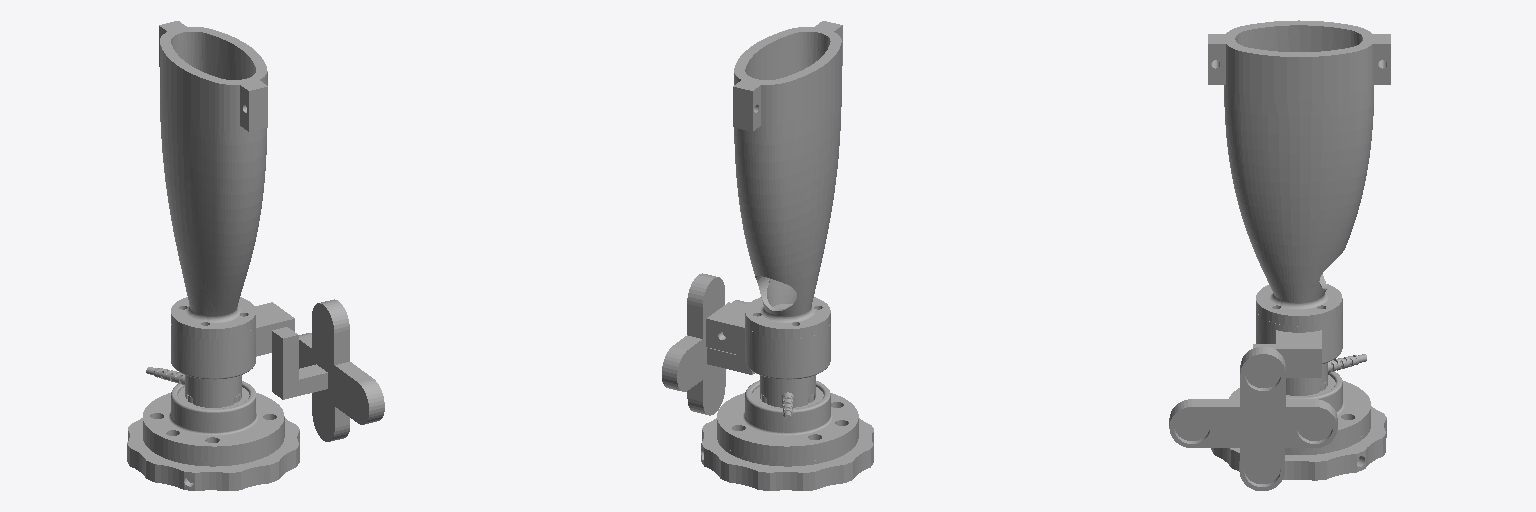
URDF robot description (LWR_US):
<?xml version="1.0" encoding="utf-8"?>
<!-- =================================================================================== -->
<!-- |    This document was autogenerated by xacro from use_case_setup_lwr.urdf.xacro  | -->
<!-- |    EDITING THIS FILE BY HAND IS NOT RECOMMENDED                                 | -->
<!-- =================================================================================== -->
<robot name="LWR_US" xmlns:controller="http://playerstage.sourceforge.net/gazebo/xmlschema/#controller" xmlns:interface="http://playerstage.sourceforge.net/gazebo/xmlschema/#interface" xmlns:sensor="http://playerstage.sourceforge.net/gazebo/xmlschema/#sensor">
  <material name="DarkGrey">
    <color rgba="0.3 0.3 0.3 1.0"/>
  </material>
  <material name="Black">
    <color rgba="0 0 0 1.0"/>
  </material>
  <material name="Orange">
    <color rgba="1.0 0.487 0 1.0"/>
  </material>
  <material name="Silver">
    <color rgba="1.0 1.0 1.0 1.0"/>
  </material>
  <material name="Grey">
    <color rgba="0.7 0.7 0.7 1.0"/>
  </material>
  <material name="Blue">
    <color rgba="0.0 0.0 0.8 1.0"/>
  </material>
  <material name="HandGray">
    <color rgba="0.953 0.996 0.694 1.0"/>
  </material>
  <material name="SickBlue">
    <color rgba="0.3058 0.5921 0.7294 1.0"/>
  </material>
  <material name="Wheat">
    <color rgba="0.8039 0.5215 0.2470 1.0"/>
  </material>
  <link name="world"/>
  <joint name="world_lwr_arm_base_joint" type="fixed">
    <origin rpy="0 0 0" xyz="0 0 0"/>
    <parent link="world"/>
    <child link="calib_lwr_arm_base_link"/>
  </joint>
  <link name="calib_lwr_arm_base_link">
    <inertial>
      <mass value="2.0"/>
      <origin rpy="0 0 0" xyz="0 0 0.055"/>
      <inertia ixx="0.00381666666667" ixy="0" ixz="0" iyy="0.0036" iyz="0" izz="0.00381666666667"/>
    </inertial>
    <visual>
      <origin rpy="0 0 0" xyz="0 0 0"/>
      <geometry>
        <mesh filename="package://kuka_lwr_description/meshes/arm/arm_base.stl"/>
      </geometry>
      <material name="Orange"/>
    </visual>
    <collision>
      <origin rpy="0 0 0" xyz="0 0 0"/>
      <geometry>
        <mesh filename="package://kuka_lwr_description/meshes/arm/convex/arm_base_convex.stl"/>
      </geometry>
    </collision>
  </link>
  <gazebo reference="calib_lwr_arm_base_link">
    <material value="kuka-lwr.material"/>
  </gazebo>
  <joint name="lwr_arm_joint_0" type="revolute">
    <origin rpy="0 0 0" xyz="0 0 0.11"/>
    <axis xyz="0 0 1"/>
    <limit effort="204" lower="-2.96705972839" upper="2.96705972839" velocity="1.91986217719"/>
    <safety_controller k_position="100" k_velocity="2" soft_lower_limit="-2.93215314335" soft_upper_limit="2.93215314335"/>
    <dynamics damping="0.1"/>
    <parent link="calib_lwr_arm_base_link"/>
    <child link="lwr_arm_link_1"/>
  </joint>
  <link name="lwr_arm_link_1">
    <inertial>
      <mass value="2.0"/>
      <origin rpy="0 0 0" xyz="0 0 0.130"/>
      <inertia ixx="0.0136666666667" ixy="0" ixz="0" iyy="0.003" iyz="0" izz="0.0118666666667"/>
    </inertial>
    <visual>
      <origin rpy="0 0 3.14159265359" xyz="0 0 0"/>
      <geometry>
        <mesh filename="package://kuka_lwr_description/meshes/arm/arm_segment_a.stl"/>
      </geometry>
      <material name="Orange"/>
    </visual>
    <collision>
      <origin rpy="0 0 3.14159265359" xyz="0 0 0"/>
      <geometry>
        <mesh filename="package://kuka_lwr_description/meshes/arm/convex/arm_segment_a_convex.stl"/>
      </geometry>
    </collision>
  </link>
  <gazebo reference="lwr_arm_link_1">
    <material value="kuka-lwr.material"/>
  </gazebo>
  <transmission name="lwr_arm_trans_0" type="pr2_mechanism_model/SimpleTransmission">
    <actuator name="lwr_arm_motor_0"/>
    <joint name="lwr_arm_joint_0"/>
    <mechanicalReduction>1.0</mechanicalReduction>
  </transmission>
  <joint name="lwr_arm_joint_1" type="revolute">
    <origin rpy="0 0 0" xyz="0 0 0.20"/>
    <axis xyz="0 -1 0"/>
    <limit effort="306" lower="-2.09439510239" upper="2.09439510239" velocity="1.91986217719"/>
    <safety_controller k_position="100" k_velocity="2" soft_lower_limit="-2.05948851735" soft_upper_limit="2.05948851735"/>
    <dynamics damping="0.1"/>
    <parent link="lwr_arm_link_1"/>
    <child link="lwr_arm_link_2"/>
  </joint>
  <link name="lwr_arm_link_2">
    <inertial>
      <mass value="2.0"/>
      <origin rpy="0 0 0" xyz="0 0.06 0.07"/>
      <inertia ixx="0.0136666666667" ixy="0" ixz="0" iyy="0.003" iyz="0" izz="0.0118666666667"/>
    </inertial>
    <visual>
      <origin rpy="3.14159265359 0 3.14159265359" xyz="0 0 0.2"/>
      <geometry>
        <mesh filename="package://kuka_lwr_description/meshes/arm/arm_segment_b.stl"/>
      </geometry>
      <material name="Orange"/>
    </visual>
    <collision>
      <origin rpy="3.14159265359 0 3.14159265359" xyz="0 0 0.2"/>
      <geometry>
        <mesh filename="package://kuka_lwr_description/meshes/arm/convex/arm_segment_b_convex.stl"/>
      </geometry>
    </collision>
  </link>
  <gazebo reference="lwr_arm_link_2">
    <material value="kuka-lwr.material"/>
  </gazebo>
  <transmission name="lwr_arm_trans_1" type="pr2_mechanism_model/SimpleTransmission">
    <actuator name="lwr_arm_motor_1"/>
    <joint name="lwr_arm_joint_1"/>
    <mechanicalReduction>1.0</mechanicalReduction>
  </transmission>
  <joint name="lwr_arm_joint_2" type="revolute">
    <origin rpy="0 0 0" xyz="0 0 0.20"/>
    <axis xyz="0 0 1"/>
    <limit effort="204" lower="-2.96705972839" upper="2.96705972839" velocity="2.26892802759"/>
    <safety_controller k_position="100" k_velocity="2" soft_lower_limit="-2.93215314335" soft_upper_limit="2.93215314335"/>
    <dynamics damping="0.1"/>
    <parent link="lwr_arm_link_2"/>
    <child link="lwr_arm_link_3"/>
  </joint>
  <link name="lwr_arm_link_3">
    <inertial>
      <mass value="2.0"/>
      <origin rpy="0 0 0" xyz="0 0.06 0.130"/>
      <inertia ixx="0.0136666666667" ixy="0" ixz="0" iyy="0.003" iyz="0" izz="0.0118666666667"/>
    </inertial>
    <visual>
      <origin rpy="0 0 0" xyz="0 0 0"/>
      <geometry>
        <mesh filename="package://kuka_lwr_description/meshes/arm/arm_segment_a.stl"/>
      </geometry>
      <material name="Orange"/>
    </visual>
    <collision>
      <origin rpy="0 0 0" xyz="0 0 0"/>
      <geometry>
        <mesh filename="package://kuka_lwr_description/meshes/arm/convex/arm_segment_a_convex.stl"/>
      </geometry>
    </collision>
  </link>
  <gazebo reference="lwr_arm_link_3">
    <material value="kuka-lwr.material"/>
  </gazebo>
  <transmission name="lwr_arm_trans_2" type="pr2_mechanism_model/SimpleTransmission">
    <actuator name="lwr_arm_motor_2"/>
    <joint name="lwr_arm_joint_2"/>
    <mechanicalReduction>1.0</mechanicalReduction>
  </transmission>
  <joint name="lwr_arm_joint_3" type="revolute">
    <origin rpy="0 0 0" xyz="0 0 0.20"/>
    <axis xyz="0 1 0"/>
    <limit effort="306" lower="-2.09439510239" upper="2.09439510239" velocity="2.26892802759"/>
    <safety_controller k_position="100" k_velocity="2" soft_lower_limit="-2.05948851735" soft_upper_limit="2.05948851735"/>
    <dynamics damping="0.1"/>
    <parent link="lwr_arm_link_3"/>
    <child link="lwr_arm_link_4"/>
  </joint>
  <link name="lwr_arm_link_4">
    <inertial>
      <mass value="2.0"/>
      <origin rpy="0 0 0" xyz="0 -0.06 0.07"/>
      <inertia ixx="0.0136666666667" ixy="0" ixz="0" iyy="0.003" iyz="0" izz="0.0118666666667"/>
    </inertial>
    <visual>
      <origin rpy="0 3.14159265359 3.14159265359" xyz="0 0 0.2"/>
      <geometry>
        <mesh filename="package://kuka_lwr_description/meshes/arm/arm_segment_b.stl"/>
      </geometry>
      <material name="Orange"/>
    </visual>
    <collision>
      <origin rpy="0 3.14159265359 3.14159265359" xyz="0 0 0.2"/>
      <geometry>
        <mesh filename="package://kuka_lwr_description/meshes/arm/convex/arm_segment_b_convex.stl"/>
      </geometry>
    </collision>
  </link>
  <gazebo reference="lwr_arm_link_4">
    <material value="kuka-lwr.material"/>
  </gazebo>
  <transmission name="lwr_arm_trans_3" type="pr2_mechanism_model/SimpleTransmission">
    <actuator name="lwr_arm_motor_3"/>
    <joint name="lwr_arm_joint_3"/>
    <mechanicalReduction>1.0</mechanicalReduction>
  </transmission>
  <joint name="lwr_arm_joint_4" type="revolute">
    <origin rpy="0 0 0" xyz="0 0 0.20"/>
    <axis xyz="0 0 1"/>
    <limit effort="204" lower="-2.96705972839" upper="2.96705972839" velocity="2.26892802759"/>
    <safety_controller k_position="100" k_velocity="2" soft_lower_limit="-2.93215314335" soft_upper_limit="2.93215314335"/>
    <dynamics damping="0.1"/>
    <parent link="lwr_arm_link_4"/>
    <child link="lwr_arm_link_5"/>
  </joint>
  <link name="lwr_arm_link_5">
    <inertial>
      <mass value="2.0"/>
      <origin rpy="0 0 0" xyz="0 0 0.124"/>
      <inertia ixx="0.0126506666667" ixy="0" ixz="0" iyy="0.003" iyz="0" izz="0.0108506666667"/>
    </inertial>
    <visual>
      <origin rpy="0 0 3.14159265359" xyz="0 0 0"/>
      <geometry name="lwr_arm_5_geom">
        <mesh filename="package://kuka_lwr_description/meshes/arm/arm_segment_last.stl"/>
      </geometry>
      <material name="Orange"/>
    </visual>
    <collision>
      <origin rpy="0 0 3.14159265359" xyz="0 0 0"/>
      <geometry>
        <mesh filename="package://kuka_lwr_description/meshes/arm/convex/arm_segment_last_convex.stl"/>
      </geometry>
    </collision>
  </link>
  <gazebo reference="lwr_arm_link_5">
    <material value="kuka-lwr.material"/>
  </gazebo>
  <transmission name="lwr_arm_trans_4" type="pr2_mechanism_model/SimpleTransmission">
    <actuator name="lwr_arm_motor_4"/>
    <joint name="lwr_arm_joint_4"/>
    <mechanicalReduction>1.0</mechanicalReduction>
  </transmission>
  <joint name="lwr_arm_joint_5" type="revolute">
    <origin rpy="0 0 0" xyz="0 0 0.19"/>
    <axis xyz="0 -1 0"/>
    <limit effort="306" lower="-2.09439510239" upper="2.09439510239" velocity="3.14159265359"/>
    <safety_controller k_position="100" k_velocity="2" soft_lower_limit="-2.05948851735" soft_upper_limit="2.05948851735"/>
    <dynamics damping="0.1"/>
    <parent link="lwr_arm_link_5"/>
    <child link="lwr_arm_link_6"/>
  </joint>
  <link name="lwr_arm_link_6">
    <inertial>
      <mass value="2.0"/>
      <origin rpy="0 0 0" xyz="0 0 0.0625"/>
      <inertia ixx="0.00520833333333" ixy="0" ixz="0" iyy="0.00520833333333" iyz="0" izz="0.00520833333333"/>
    </inertial>
    <visual>
      <origin rpy="0 0 3.14159265359" xyz="0 0 0"/>
      <geometry>
        <mesh filename="package://kuka_lwr_description/meshes/arm/arm_wrist.stl"/>
      </geometry>
      <material name="Grey"/>
    </visual>
    <collision>
      <origin rpy="0 0 3.14159265359" xyz="0 0 0"/>
      <geometry>
        <mesh filename="package://kuka_lwr_description/meshes/arm/convex/arm_wrist_convex.stl"/>
      </geometry>
    </collision>
  </link>
  <gazebo reference="lwr_arm_link_6">
    <material value="kuka-lwr.material"/>
  </gazebo>
  <transmission name="lwr_arm_trans_5" type="pr2_mechanism_model/SimpleTransmission">
    <actuator name="lwr_arm_motor_5"/>
    <joint name="lwr_arm_joint_5"/>
    <mechanicalReduction>1.0</mechanicalReduction>
  </transmission>
  <joint name="lwr_arm_joint_6" type="revolute">
    <origin rpy="0 0 0" xyz="0 0 0.078"/>
    <axis xyz="0 0 1"/>
    <limit effort="204" lower="-2.96705972839" upper="2.96705972839" velocity="3.14159265359"/>
    <safety_controller k_position="100" k_velocity="2" soft_lower_limit="-2.93215314335" soft_upper_limit="2.93215314335"/>
    <dynamics damping="0.1"/>
    <parent link="lwr_arm_link_6"/>
    <child link="lwr_arm_link_7"/>
  </joint>
  <link name="lwr_arm_link_7">
    <inertial>
      <mass value="2.0"/>
      <origin xyz="0 0 0"/>
      <inertia ixx="0.333333333333" ixy="0" ixz="0" iyy="0.333333333333" iyz="0" izz="0.333333333333"/>
    </inertial>
    <visual>
      <origin rpy="0 0 2.35619449019" xyz="0 0 0"/>
      <geometry>
        <mesh filename="package://kuka_lwr_description/meshes/arm/arm_flanche.stl"/>
      </geometry>
      <material name="Black"/>
    </visual>
    <collision>
      <origin rpy="0 0 2.35619449019" xyz="0 0 0"/>
      <geometry>
        <mesh filename="package://kuka_lwr_description/meshes/arm/convex/arm_flanche_convex.stl"/>
      </geometry>
    </collision>
  </link>
  <gazebo reference="lwr_arm_link_7">
    <material value="kuka-lwr.material"/>
  </gazebo>
  <transmission name="lwr_arm_trans_6" type="pr2_mechanism_model/SimpleTransmission">
    <actuator name="lwr_arm_motor_6"/>
    <joint name="lwr_arm_joint_6"/>
    <mechanicalReduction>1.0</mechanicalReduction>
  </transmission>
  <joint name="lwr_arm_hand_fixed_joint" type="fixed">
    <origin rpy="0 0 0" xyz="0 0 0.18"/>
    <parent link="lwr_arm_link_7"/>
    <child link="lwr_arm_hand_link"/>
  </joint>
  <link name="lwr_arm_hand_link">
    <inertial>
      <mass value="0.30"/>
      <origin xyz="0 0 0.10"/>
      <inertia ixx="0.333333333333" ixy="0" ixz="0" iyy="0.333333333333" iyz="0" izz="0.333333333333"/>
    </inertial>
    <visual>
      <origin rpy="1.57079632 0 0" xyz="-0.052 0.052 -0.2"/>
        <geometry> 
            <mesh filename="package://kuka_lwr_description/meshes/arm/convex/b_with_force_sensor.stl"/> 
        </geometry>
    <material name="Grey"/>
    </visual>
  </link>
  <gazebo reference="lwr_arm_link_7">
    <material value="kuka-lwr.material"/>
  </gazebo>
  <transmission name="lwr_arm_trans_7" type="pr2_mechanism_model/SimpleTransmission">
    <actuator name="lwr_arm_motor_6"/>
    <joint name="lwr_arm_hand_fixed_joint"/>
    <mechanicalReduction>1.0</mechanicalReduction>
  </transmission> 
</robot>

--- What the picture shows (computed from the rendered views, not written in the file) ---
Views: 3 orthographic renders of the robot side by side, from view 1: azimuth 30°, elevation 25°; view 2: azimuth 150°, elevation 25°; view 3: azimuth 270°, elevation 25°.
Robot: LWR_US — 10 links, 9 joints (7 revolute, 2 fixed); root link world; default pose: all joints at 0.
Visible links, largest first — view 1: lwr_arm_hand_link; view 2: lwr_arm_hand_link; view 3: lwr_arm_hand_link.
Link boxes in pixels (x1=…): lwr_arm_hand_link: x1=127, y1=21, x2=384, y2=490; lwr_arm_hand_link: x1=662, y1=21, x2=873, y2=490; lwr_arm_hand_link: x1=1169, y1=20, x2=1390, y2=490.
Size in the robot's own frame: 0.0934 by 0.0968 by 0.1986 metres.
1 mesh visuals loaded from 7 distinct referenced files (1 binary STL); not drawn: 8 (reference not matched to a file when rendering).